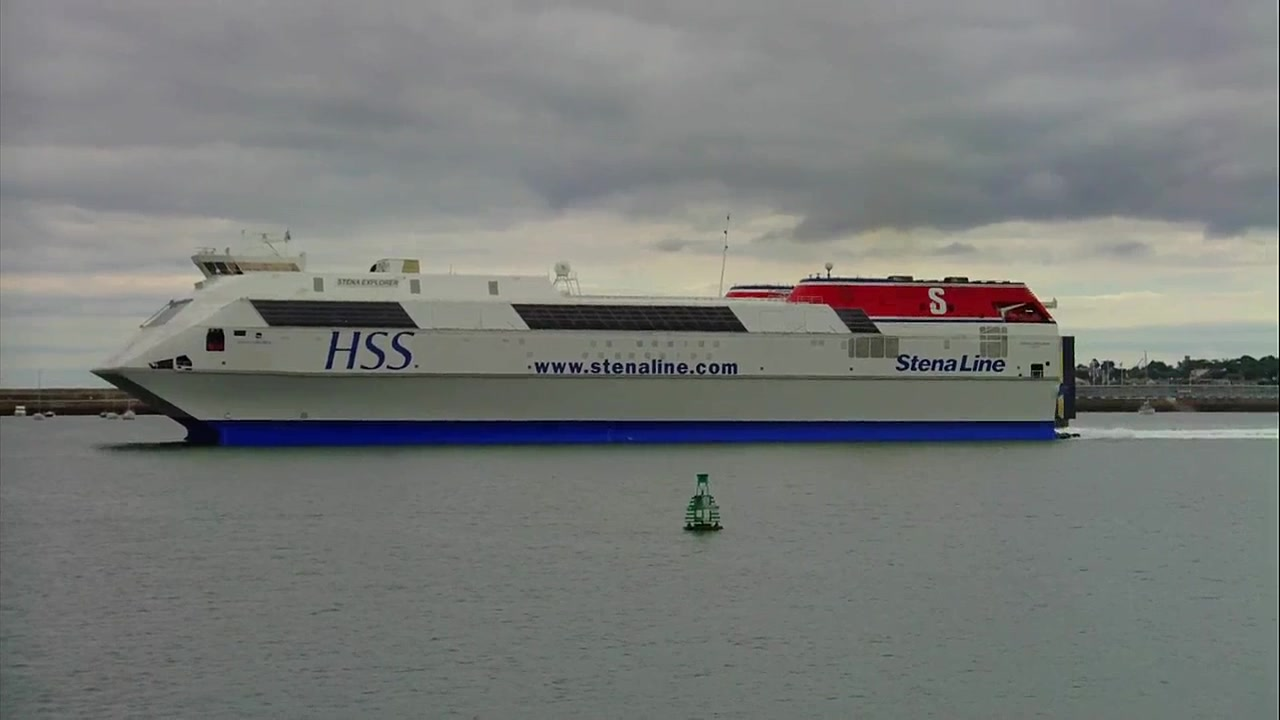boat: (89, 224, 1084, 448)
